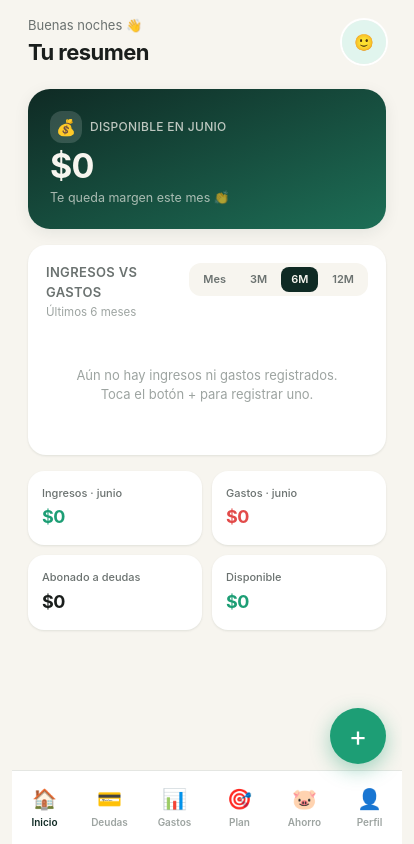
App (smoke) › navega a Perfil y muestra los datos personales
Click the text "Perfil". click: point(370, 822)
box: [357,815,382,830]
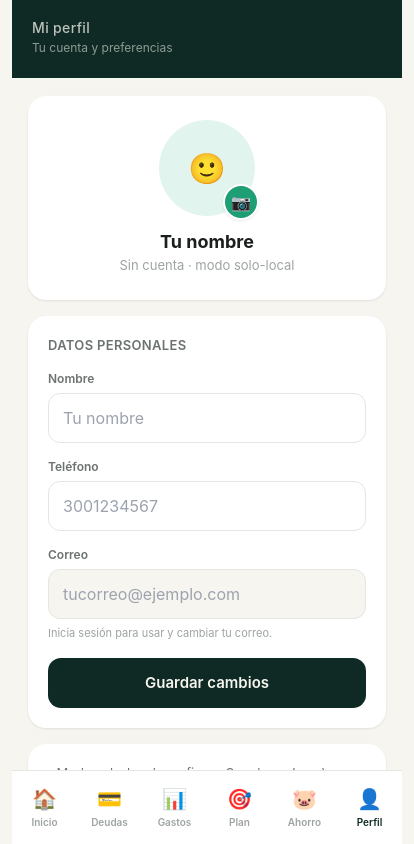
Expected: the heading "Datos personales" is shown, [48,336,186,352]
Expected: the text "Nombre" is shown, [48,371,94,386]
Expected: the text "Teléfono" is shown, [48,459,99,474]
